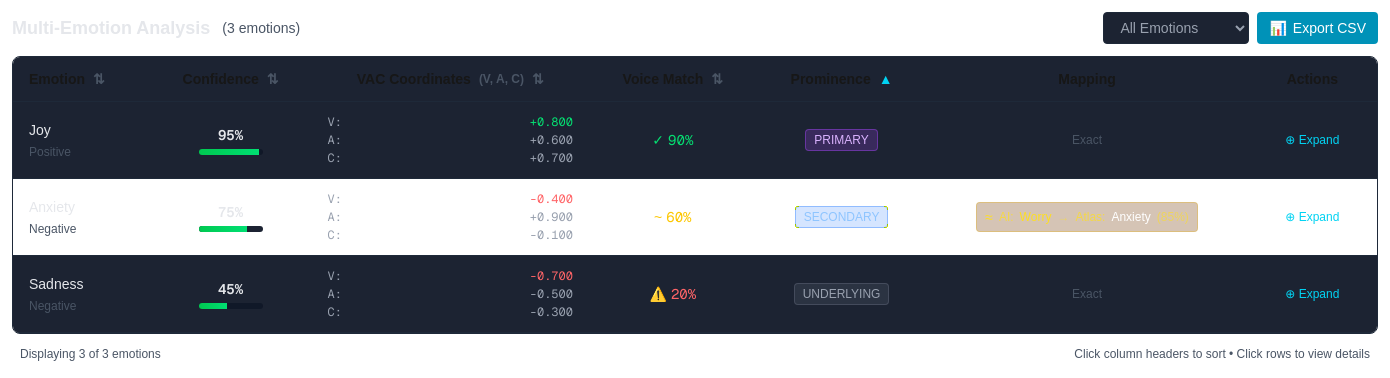
Scenario: MultiEmotionTable › filters by prominence
The width and height of the screenshot is (1390, 378).
Select Primary
Select "Primary Only" in the dropdown at (1176, 28), box [1103,12,1249,44]
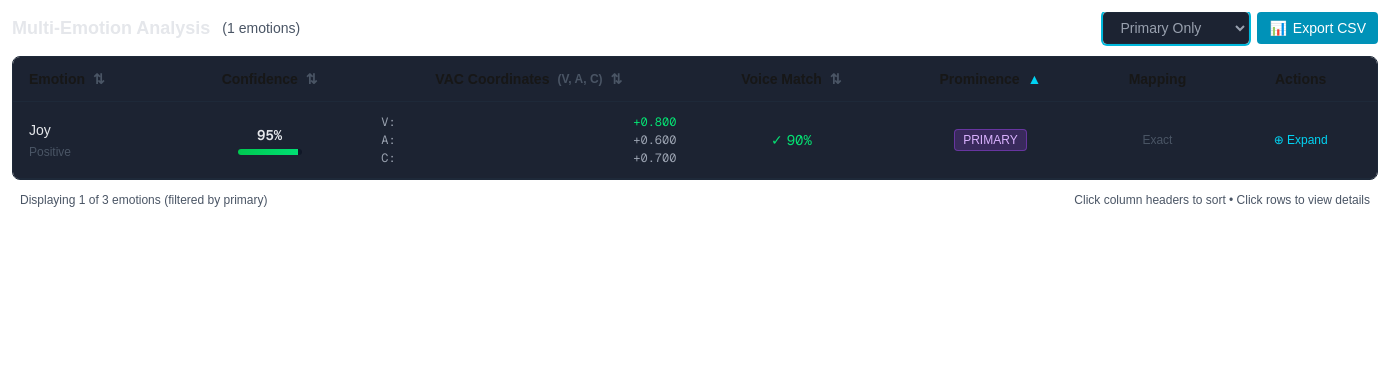
Check: the text "Joy" is shown, box [29,122,51,138]
Check: the text "Anxiety" is gone
Check: the text "Sadness" is gone
Select Secondary
Select "Secondary Only" in the dropdown at (1176, 28), box [1103,12,1249,44]
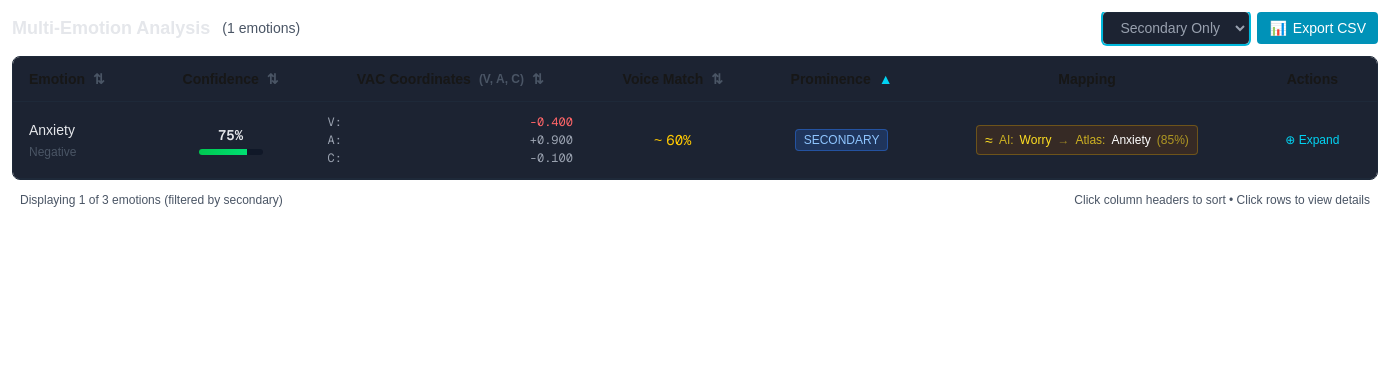
Check: the 1st text "Anxiety" is shown, box [29,122,75,138]
Check: the text "Joy" is gone
